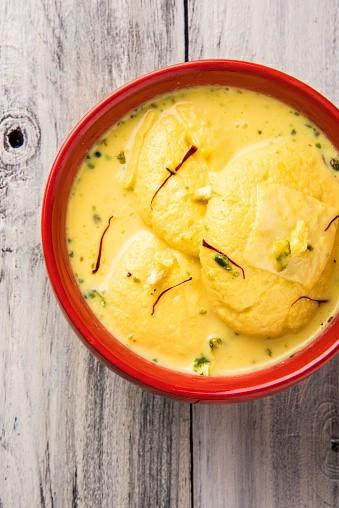RasMalai: (67, 85, 339, 374)
